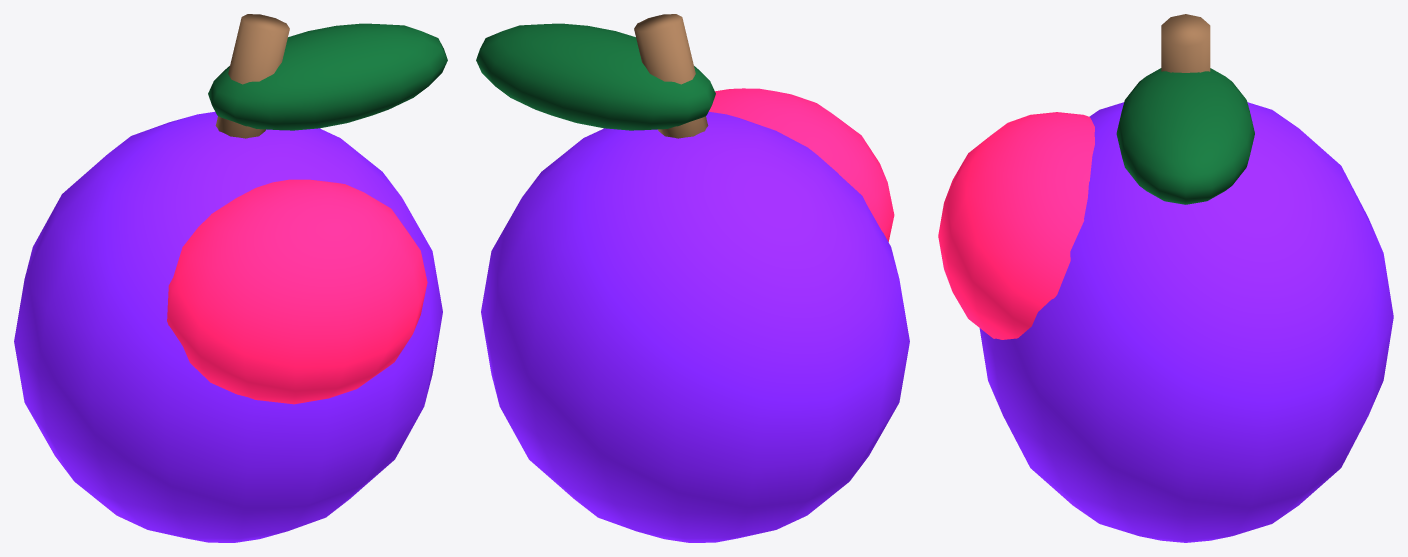
Rendered from berry.glb.
The picture shows the model from 3 angles, left to right: view 1: azimuth 30°, elevation 25°; view 2: azimuth 150°, elevation 25°; view 3: azimuth 270°, elevation 25°; orthographic projection. The views are drawn at different scales.
Parts seen in each view (by area): view 1: Star mist fruit; view 2: Star mist fruit; view 3: Star mist fruit.
Part boxes in pixels (x1,y1,x2,y2): Star mist fruit: [14, 14, 447, 542]; Star mist fruit: [476, 14, 909, 542]; Star mist fruit: [938, 14, 1393, 542].
Size of the model in its own units: 0.49 by 0.5767 by 0.46.
